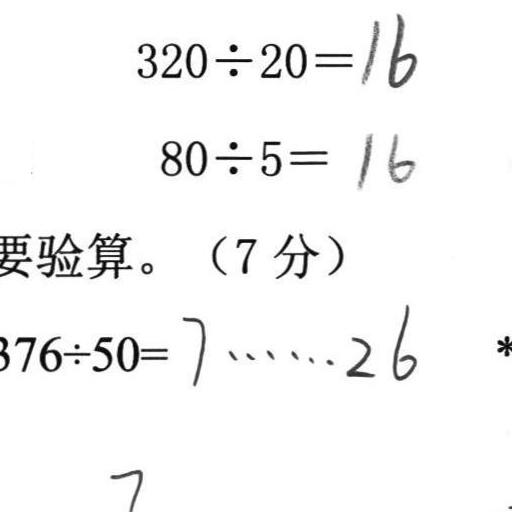ans: (177, 304, 417, 387), (356, 8, 417, 89), (350, 125, 414, 189)
